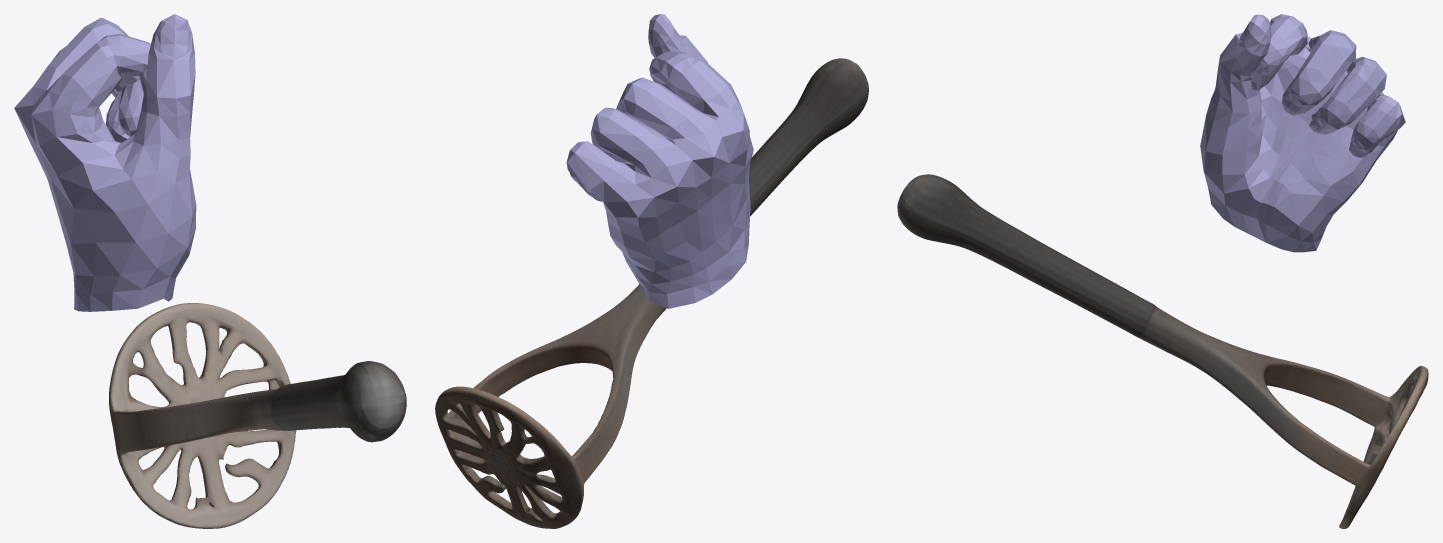
File: frame_0071_source_000071_hand_object.glb
3 renders of one model, left to right at view 1: azimuth 30°, elevation 25°; view 2: azimuth 150°, elevation 25°; view 3: azimuth 270°, elevation 25°, orthographic. The views are drawn at different scales.
Parts seen in each view (by area): view 1: world; view 2: world; view 3: world.
Part boxes in pixels (x1,y1,x2,y2): world: (14, 14, 406, 528); world: (435, 14, 868, 528); world: (897, 14, 1428, 528).
Size of the model in its own units: 0.1314 by 0.2374 by 0.2432.
